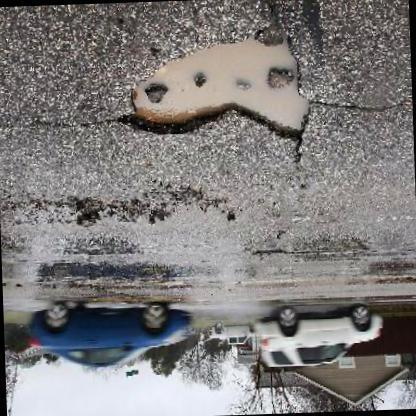pothole: (127, 24, 318, 163)
